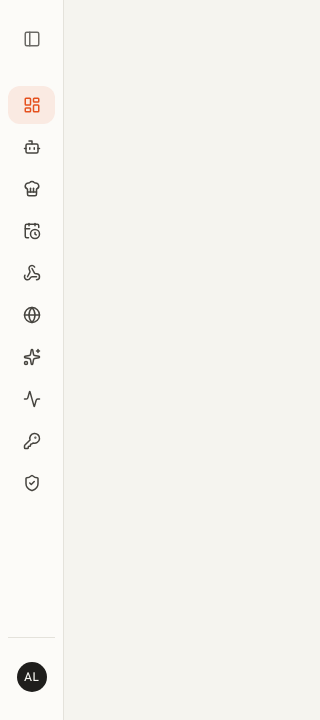
Sidebar (toggle de colapso) › colapsado, el popover del avatar sigue abriendo con las tres opciones
// En mini-rail el boton de cuenta es solo el avatar, nombrado via aria-label.
Step 1. Click the button with aria-label "Ada Lovelace" → (32, 677), box [8,654,55,700]
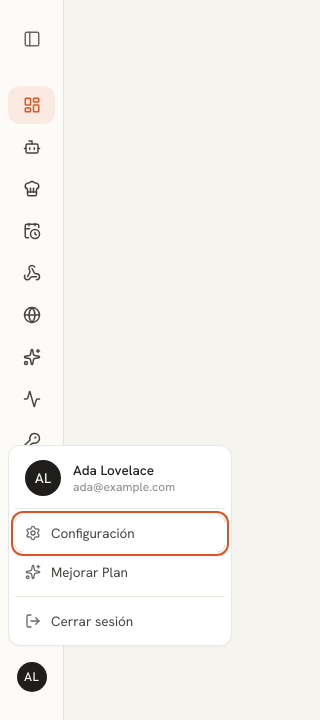
Expected: the menu is shown, [8,445,232,646]
Expected: the menu item "Configuración" is shown, [15,515,225,552]
Expected: the menu item "Mejorar Plan" is shown, [15,554,225,590]
